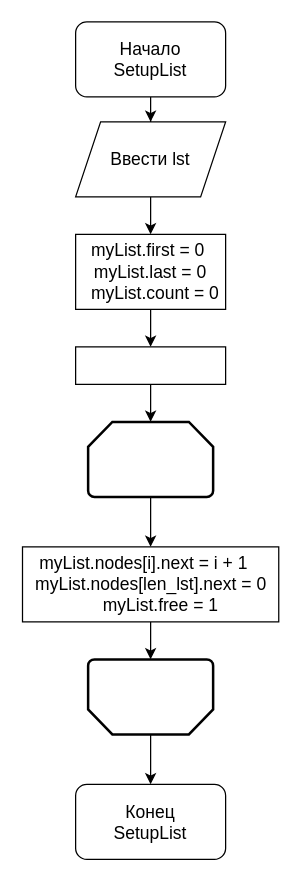
This 300x881 diagram has some shape labels left out. The shapes that lost their labels are listed below. From the top down, each one's centre as x and y in pixels, then its label:
point 150,365: i = 1
point 150,459: Цикл1 i = Длина(lst) - 1
point 150,696: Цикл1
